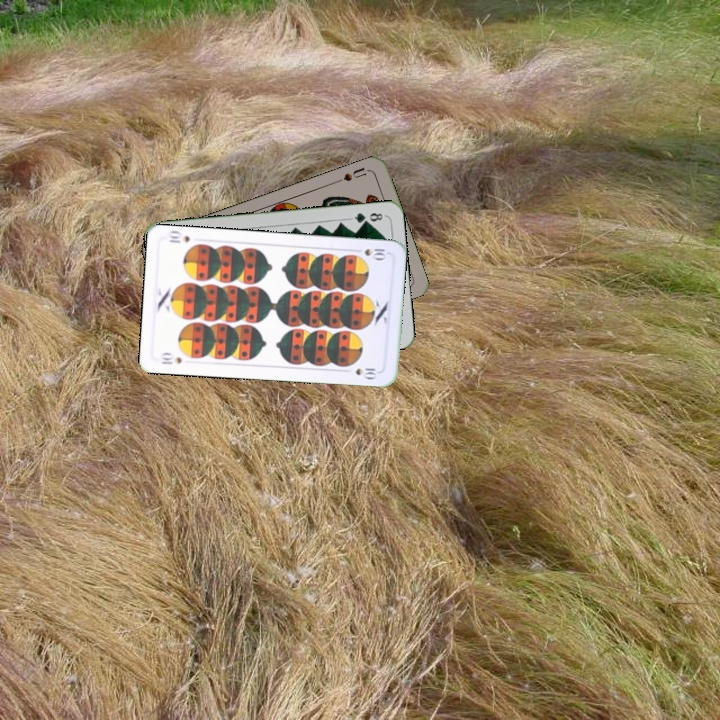G8: (347, 209, 387, 226)
S10: (350, 244, 390, 262), (157, 349, 185, 367)
SU: (332, 163, 372, 185)
